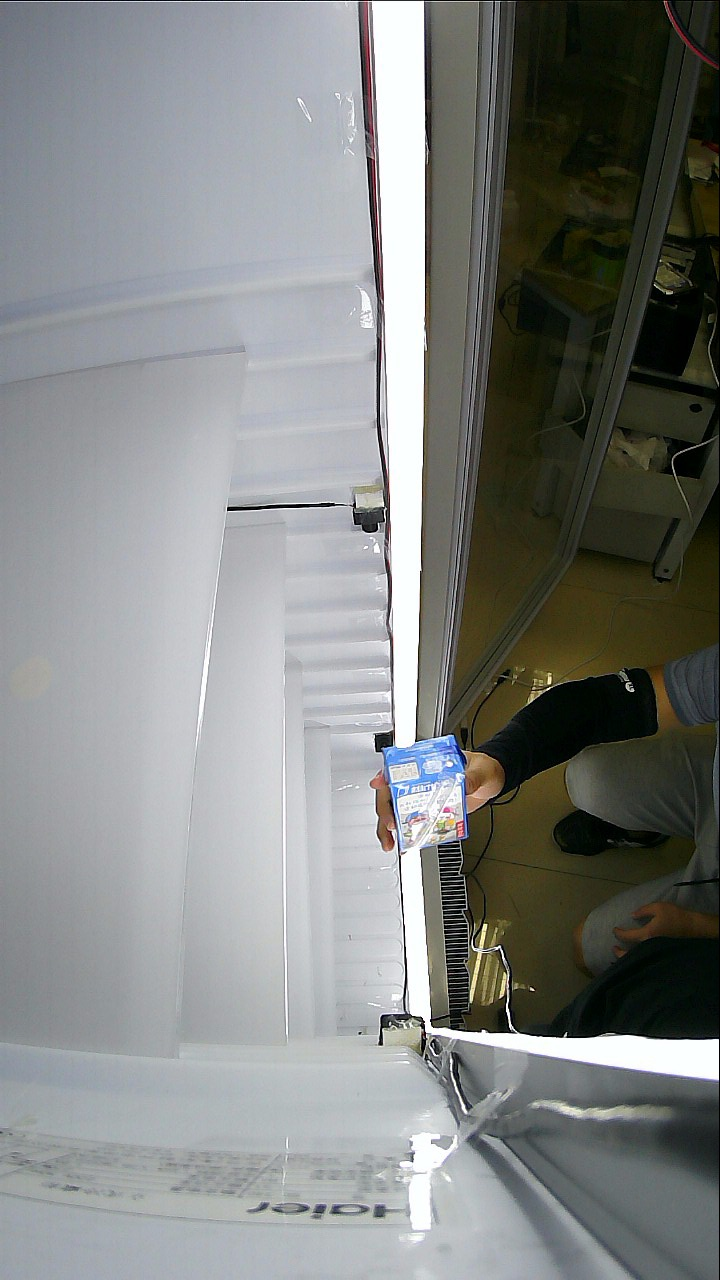VitaSoyOriginal: (374, 709, 530, 853)
